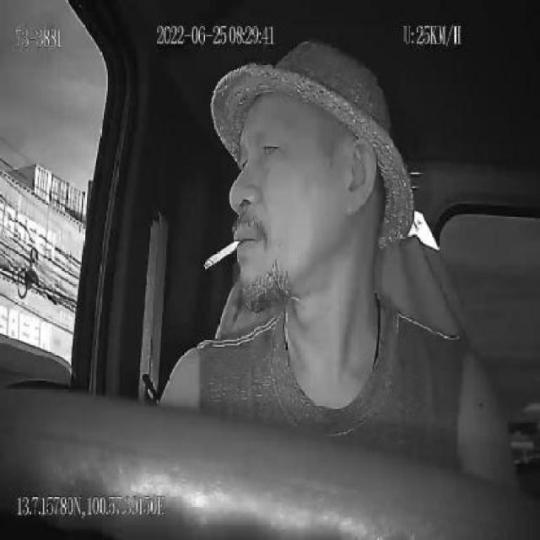smoking: (203, 237, 241, 268)
